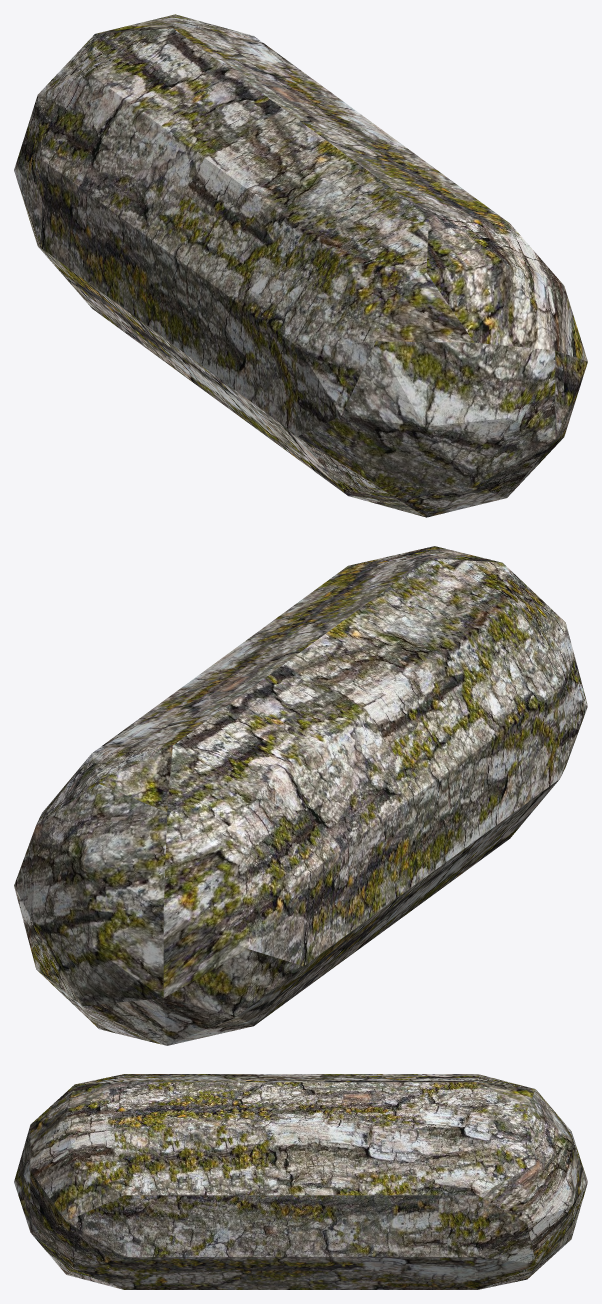
Rendered from CapsuleCapsule.dae.
3 views of the same model, one above another, from view 1: azimuth 30°, elevation 25°; view 2: azimuth 150°, elevation 25°; view 3: azimuth 270°, elevation 25° (orthographic). The views are drawn at different scales.
Visible parts, largest first — view 1: Capsule; view 2: Capsule; view 3: Capsule.
Boxes of the visible parts, box(x1,y1,x2,y2) form: Capsule: box(14, 14, 587, 517); Capsule: box(14, 546, 587, 1045); Capsule: box(14, 1074, 587, 1289).
Size of what is drawn, in the model's own units: 1.9 by 5.22 by 2.
Materials: 1 (1 with a texture image).
